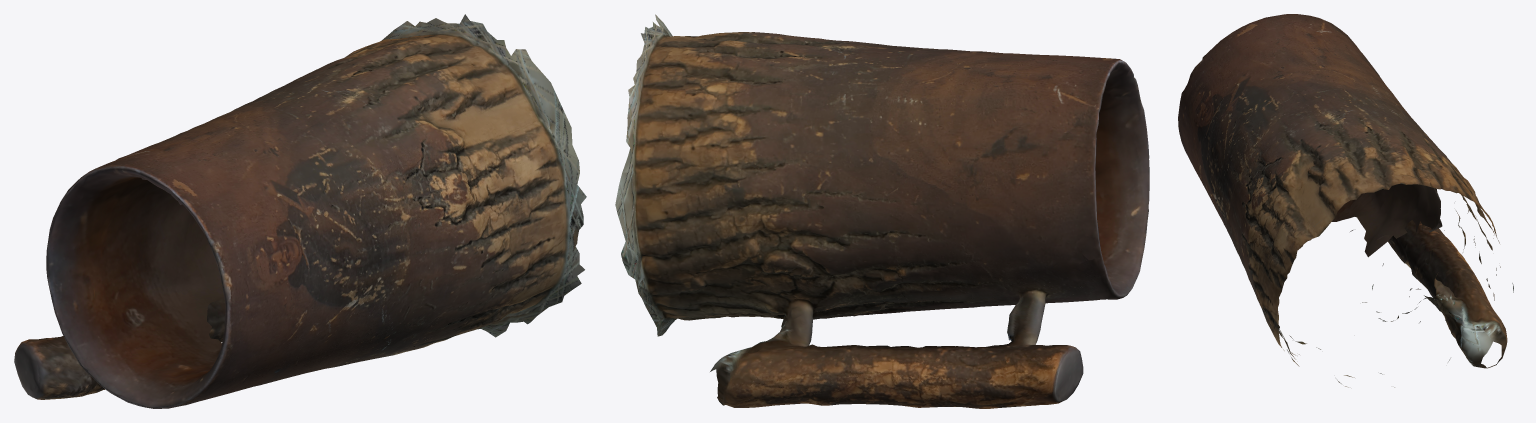
The model's file is 3DModel_LowPoly.gltf.
The picture shows the model from 3 angles, left to right: view 1: azimuth 30°, elevation 25°; view 2: azimuth 150°, elevation 25°; view 3: azimuth 270°, elevation 25°; orthographic projection. The views are drawn at different scales.
Visible parts, largest first — view 1: defaultobject; view 2: defaultobject; view 3: defaultobject.
Part boxes in pixels (x1,y1,x2,y2): defaultobject: (14, 14, 586, 408); defaultobject: (615, 14, 1149, 408); defaultobject: (1178, 14, 1513, 387).
Size of the model in its own units: 9.41 by 5.85 by 7.28.
Materials: 1 (1 with a texture image).
